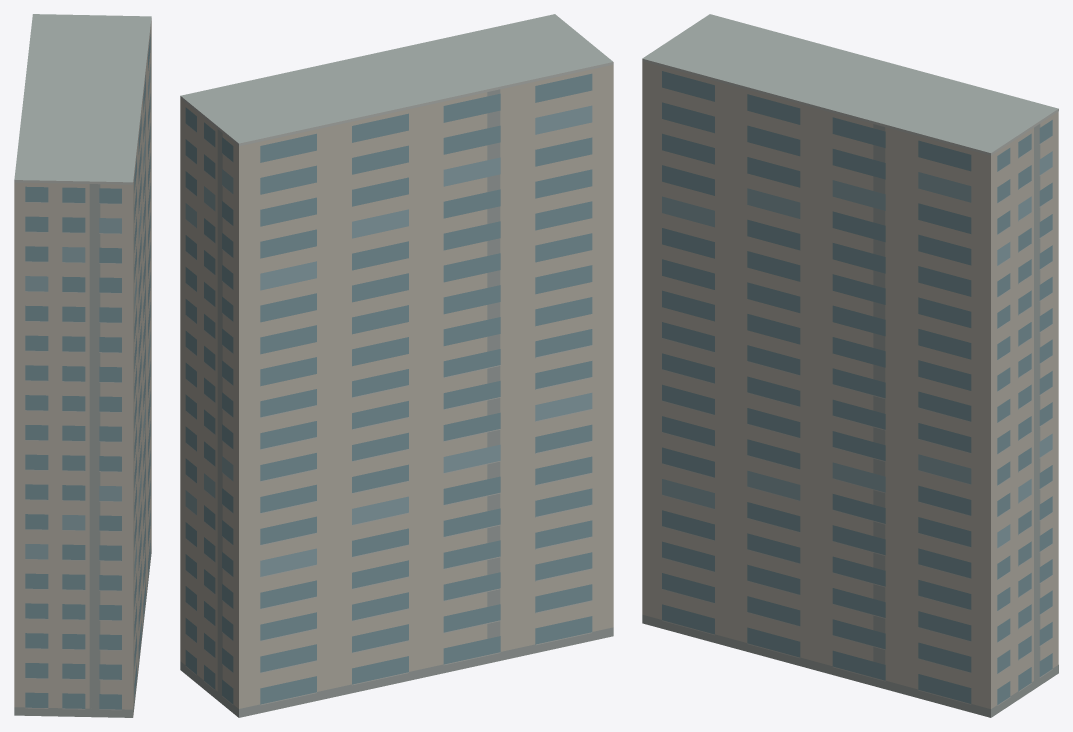
The model's file is residential-4eba258a-d506-4e63-b255-8e01b771d089.glb.
The picture shows the model from 3 angles, left to right: view 1: azimuth 30°, elevation 25°; view 2: azimuth 150°, elevation 25°; view 3: azimuth 270°, elevation 25°; orthographic projection. The views are drawn at different scales.
Parts seen in each view (by area): view 1: residential-4eba258a-d506-4e63-b255-8e01b771d089.tmp; view 2: residential-4eba258a-d506-4e63-b255-8e01b771d089.tmp; view 3: residential-4eba258a-d506-4e63-b255-8e01b771d089.tmp.
Part boxes in pixels (x1,y1,x2,y2): residential-4eba258a-d506-4e63-b255-8e01b771d089.tmp: (14, 14, 151, 717); residential-4eba258a-d506-4e63-b255-8e01b771d089.tmp: (180, 14, 613, 717); residential-4eba258a-d506-4e63-b255-8e01b771d089.tmp: (642, 14, 1058, 717).
Size of the model in its own units: 27.5 by 52 by 34.78.
